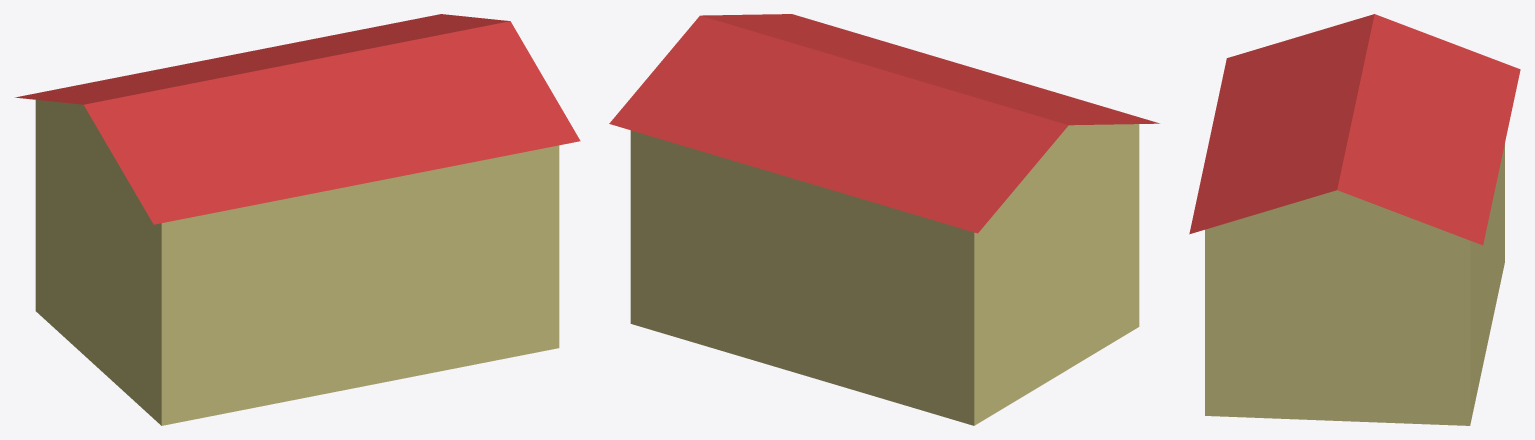
3 views of the same model, side by side, from view 1: azimuth 30°, elevation 25°; view 2: azimuth 150°, elevation 25°; view 3: azimuth 270°, elevation 25° (orthographic). The views are drawn at different scales.
Bounding box in the file's own units: 15.46 × 11.55 × 9.11.
